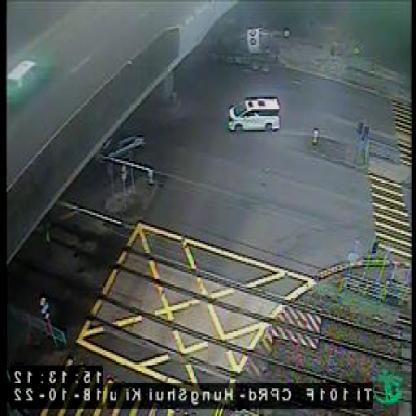Car: (5, 52, 58, 116), (226, 93, 282, 132)
Truck: (206, 24, 284, 74)
